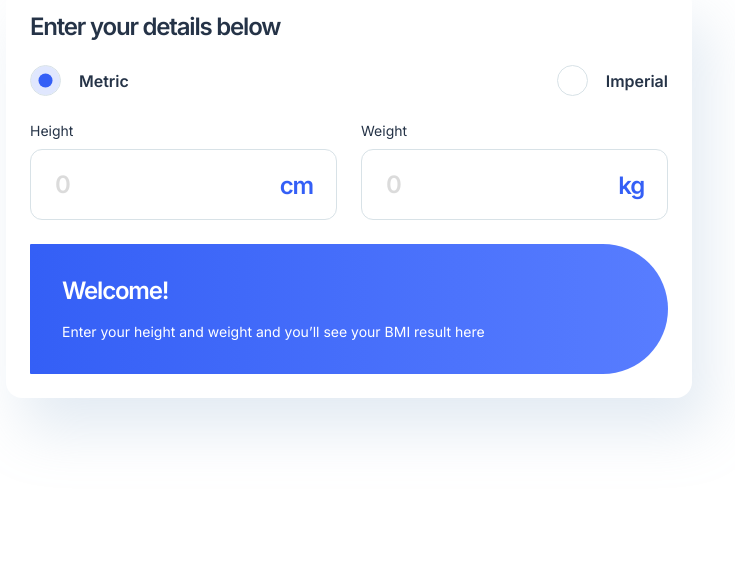
it: Test Radio Buttons › imperial-inputs-render
What coordinates should you click on to do the following:
click the radio button with test id "imperial btn"
I would click on:
 (572, 80)
Its box is top-left (557, 65), bottom-right (588, 96).
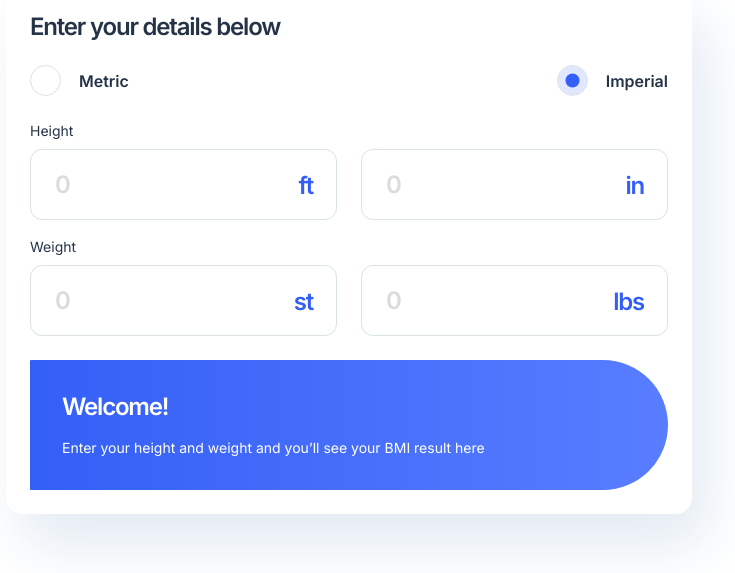
Expected: the radio button with test id "imperial btn" is checked, top-left (557, 65), bottom-right (588, 96)
Expected: the element with test id "imperial inputs" is shown, top-left (30, 120), bottom-right (668, 220)
